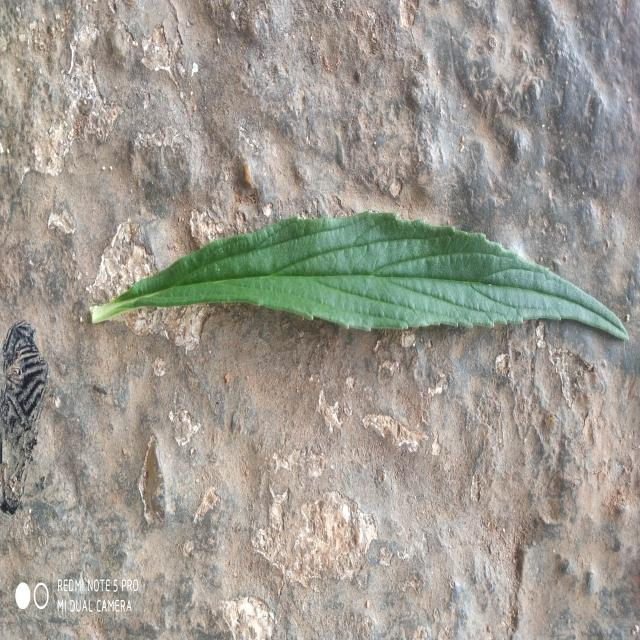thambe: (91, 211, 628, 340)
